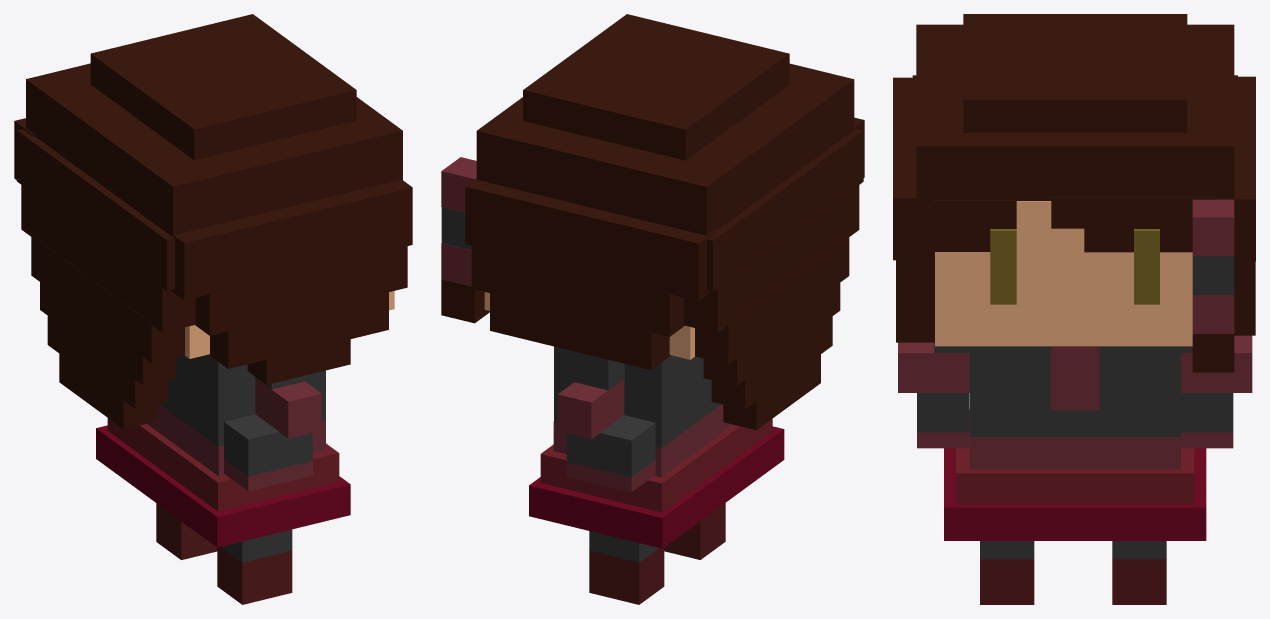
File: mainCharacter_game.glb
3 views of the same model, side by side, from view 1: azimuth 30°, elevation 25°; view 2: azimuth 150°, elevation 25°; view 3: azimuth 270°, elevation 25° (orthographic). The views are drawn at different scales.
Visible parts, largest first — view 1: Cube.010, Cube.043, Cube.001, Cube.004; view 2: Cube.010, Cube.048, Cube.004, Cube.001; view 3: Cube.010, Cube.043, Cube.048, Cube.001, Cube.004.
Boxes of the visible parts, x1,y1,x2,y2 form: Cube.010: (14,14,412,547); Cube.043: (224,375,321,491); Cube.001: (217,529,292,604); Cube.004: (156,503,217,559); Cube.010: (441,14,864,548); Cube.048: (557,351,655,492); Cube.004: (589,531,664,604); Cube.001: (664,503,725,559); Cube.010: (893,14,1255,540); Cube.043: (898,342,969,448); Cube.048: (1181,335,1252,448); Cube.001: (980,541,1034,604); Cube.004: (1112,541,1166,604).
Size of the model in its own units: 2.17 by 3.76 by 2.3.
